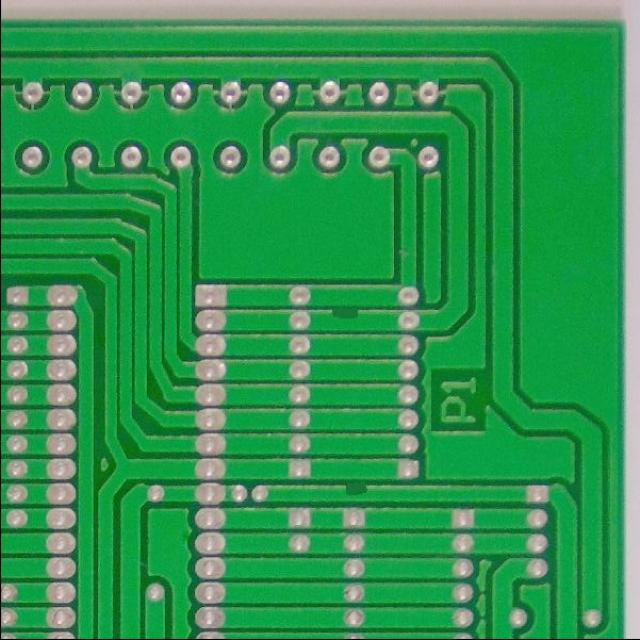mouse_bite: (326, 304, 361, 329), (342, 479, 369, 506)
